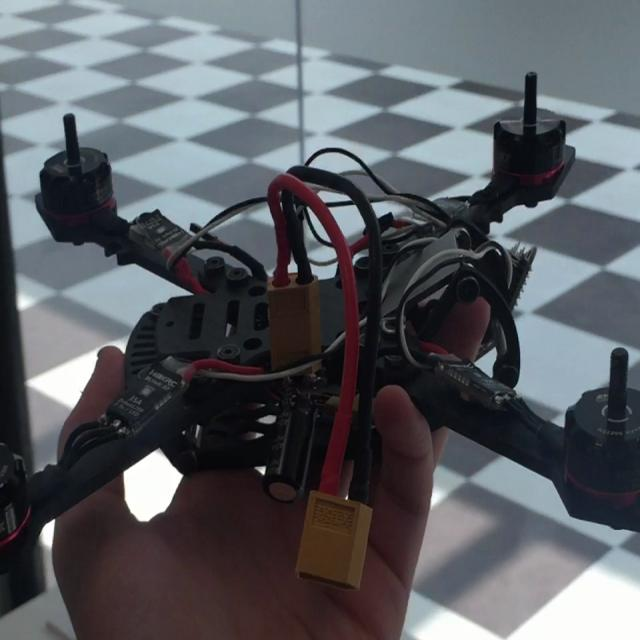drone: (0, 46, 640, 566)
